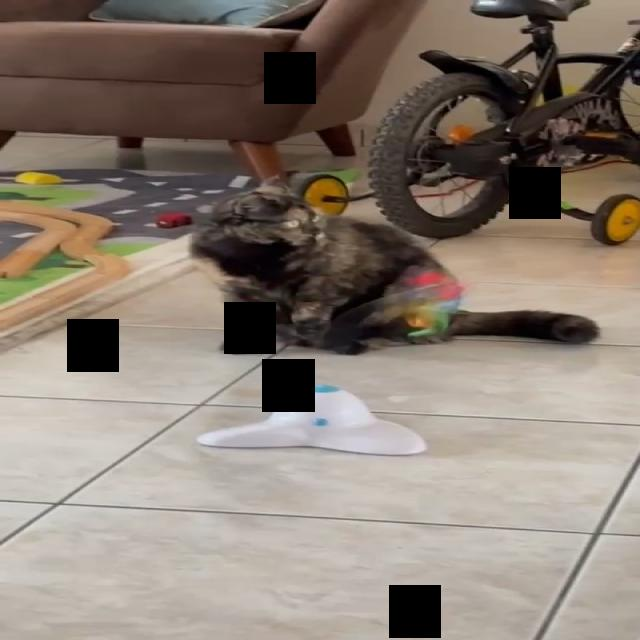authorized: (187, 179, 600, 355)
